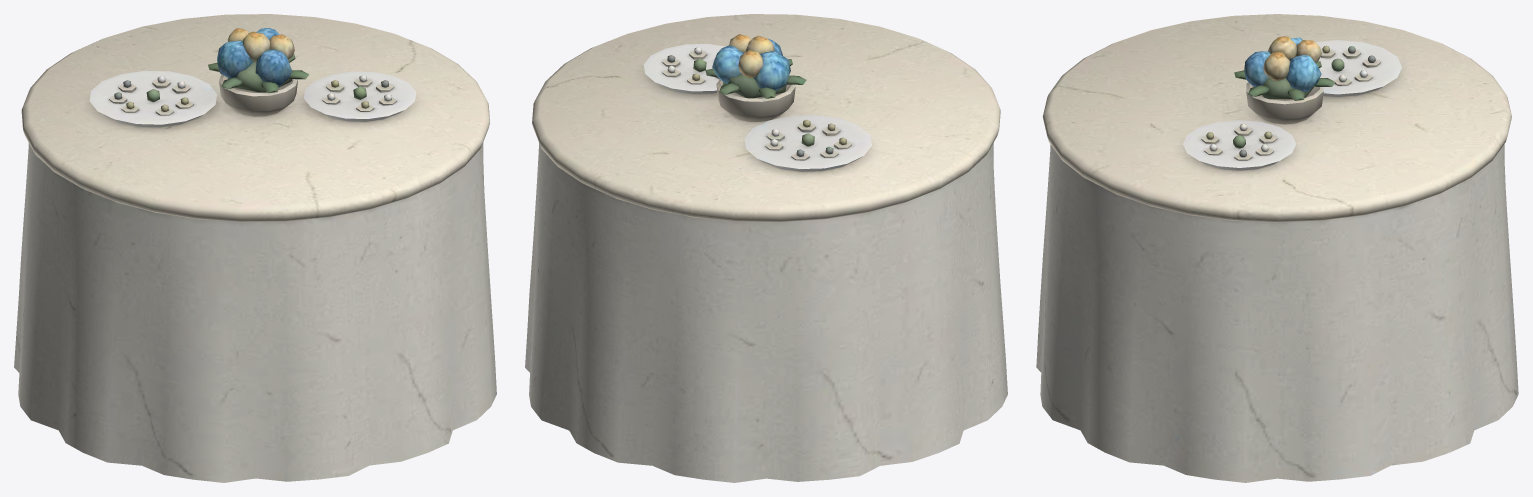
The model's file is canape_table.glb.
3 views of the same model, side by side, from view 1: azimuth 30°, elevation 25°; view 2: azimuth 150°, elevation 25°; view 3: azimuth 270°, elevation 25° (orthographic).
Parts seen in each view (by area): view 1: canape_table; view 2: canape_table; view 3: canape_table.
Boxes of the visible parts, <box> form: canape_table: <box>14,14,496,482</box>; canape_table: <box>525,14,1007,482</box>; canape_table: <box>1036,14,1518,482</box>.
Bounding box in the file's own units: 1.28 × 1.01 × 1.27.
1 material, 1 textured.
